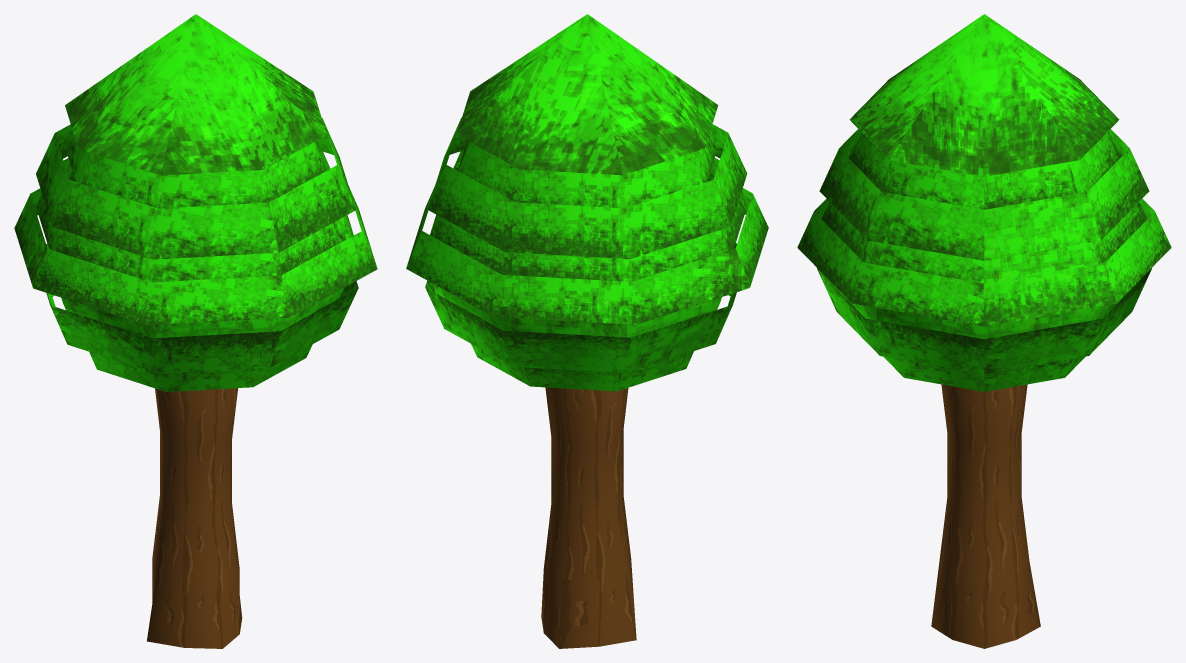
The model's file is Tree.FBX.
3 views of the same model, side by side, from view 1: azimuth 30°, elevation 25°; view 2: azimuth 150°, elevation 25°; view 3: azimuth 270°, elevation 25° (orthographic).
Parts seen in each view (by area): view 1: Cylinder001; view 2: Cylinder001; view 3: Cylinder001.
Boxes of the visible parts, x1,y1,x2,y2 form: Cylinder001: [14, 14, 377, 648]; Cylinder001: [406, 14, 768, 648]; Cylinder001: [797, 14, 1171, 648].
Bounding box in the file's own units: 54.17 × 97.8 × 54.17.
Materials: 1 (1 with a texture image).
